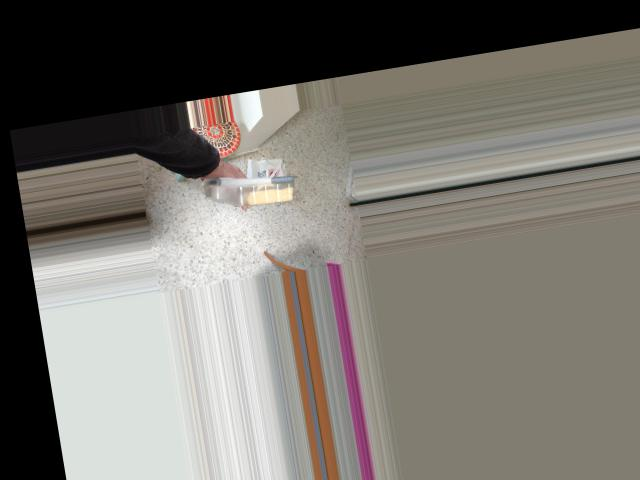cheese: (213, 118, 303, 236)
